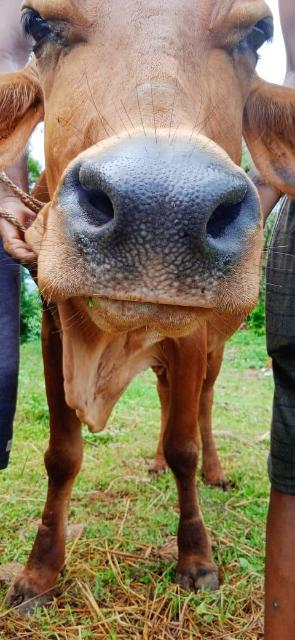Muzzle: (80, 152, 250, 292)
